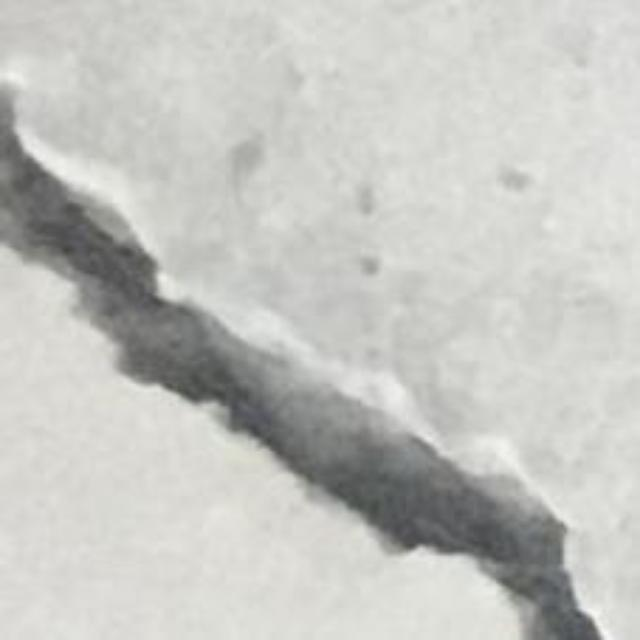crack: (0, 85, 606, 639)
